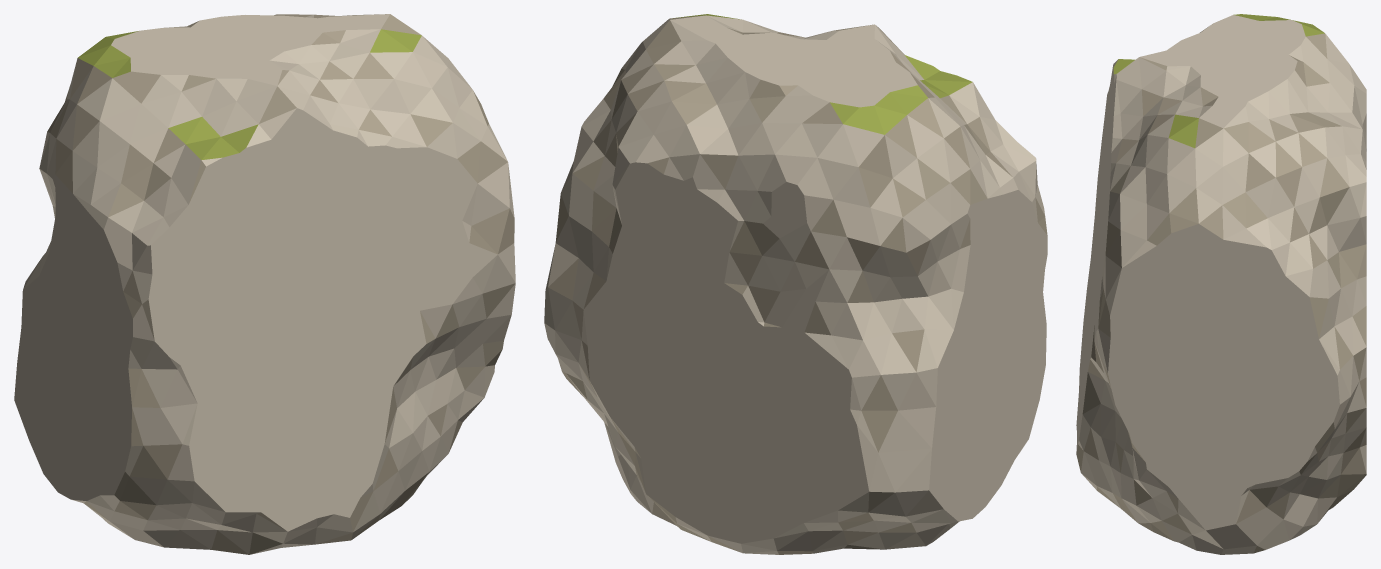
File: rome_rock_b.glb
3 views of the same model, side by side, from view 1: azimuth 30°, elevation 25°; view 2: azimuth 150°, elevation 25°; view 3: azimuth 270°, elevation 25° (orthographic). The views are drawn at different scales.
Visible parts, largest first — view 1: rome_rock_b; view 2: rome_rock_b; view 3: rome_rock_b.
Part boxes in pixels (x1,y1,x2,y2): rome_rock_b: (14, 14, 515, 554); rome_rock_b: (544, 14, 1047, 554); rome_rock_b: (1076, 14, 1366, 554).
Bounding box in the file's own units: 8.4 × 9.5 × 6.08.
